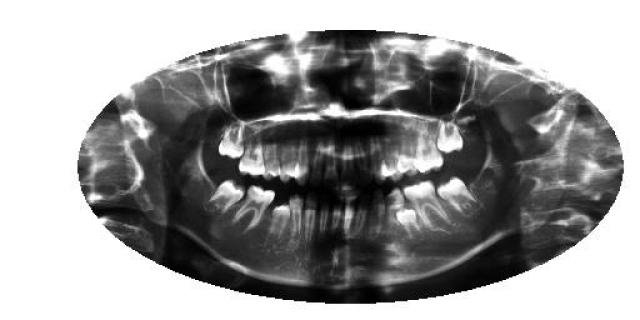Restorations: (436, 120, 464, 154)
